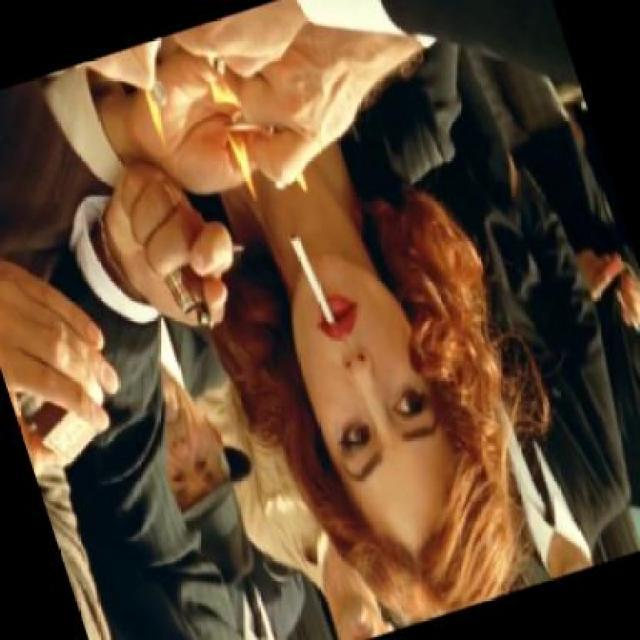smoke: (282, 223, 342, 334)
